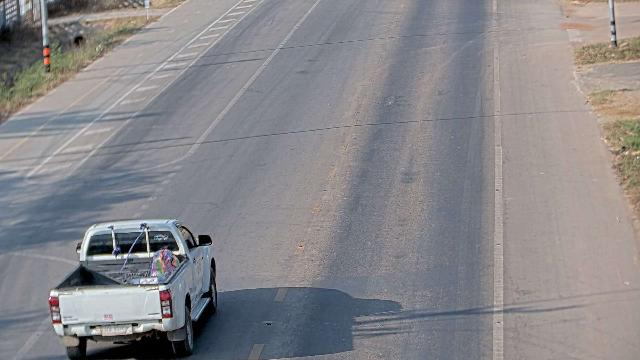pickup-truck: (48, 218, 218, 358)
